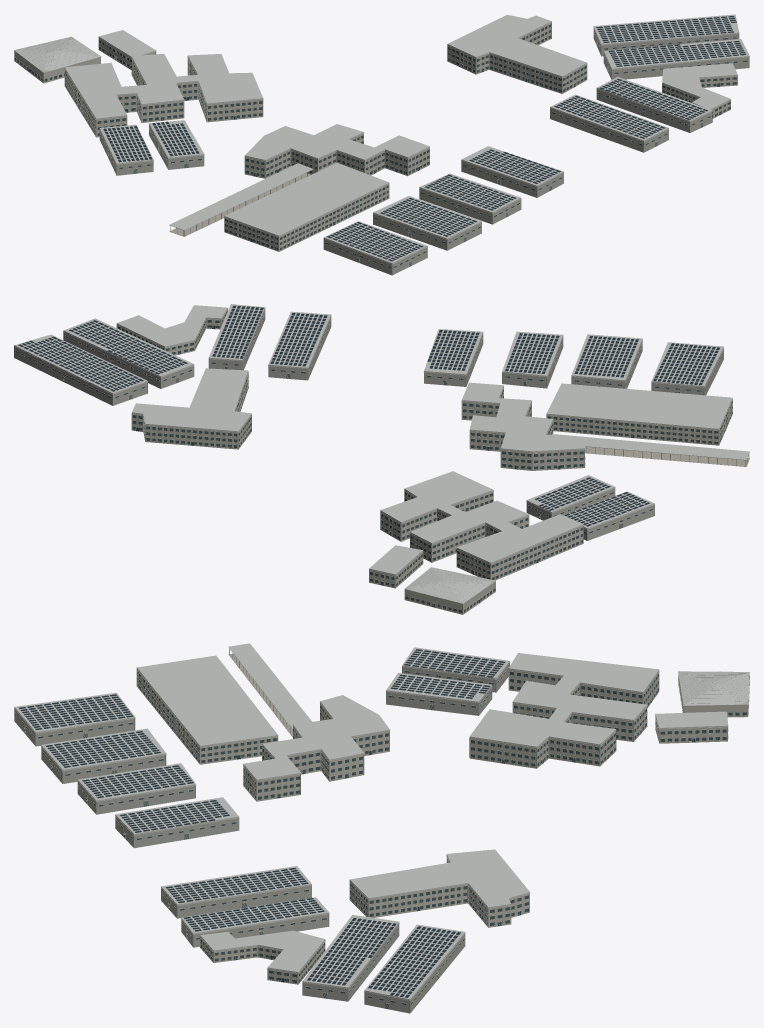
Rendered from UMPSA-Pekan-academic.glb.
The picture shows the model from 3 angles, top to bottom: view 1: azimuth 30°, elevation 25°; view 2: azimuth 150°, elevation 25°; view 3: azimuth 270°, elevation 25°; orthographic projection. The views are drawn at different scales.
Parts seen in each view (by area): view 1: Fakulti Teknologi Kejuruteraan Elektrik dan Elektronik (FTKE, FTKMA west teaching block - campus exterior, Fakulti Teknologi Kejuruteraan Mekanikal dan Automotif (FTKM, Faculty of Engineering Technology - main block - campus exte, Engineering Technology solar laboratory - east - campus exte, Engineering Technology solar laboratory - north - campus ext, FTKMA solar workshop B - campus exterior, Engineering Technology solar laboratory - west - campus exte, FTKMA solar workshop A - campus exterior, Engineering Technology solar laboratory - south - campus ext, FTKMA solar workshop C - campus exterior, FTKMA solar workshop D - campus exterior (+6 smaller); view 2: Fakulti Teknologi Kejuruteraan Elektrik dan Elektronik (FTKE, FTKMA west teaching block - campus exterior, Fakulti Teknologi Kejuruteraan Mekanikal dan Automotif (FTKM, Faculty of Engineering Technology - main block - campus exte, Engineering Technology solar laboratory - north - campus ext, Engineering Technology solar laboratory - east - campus exte, FTKMA solar workshop B - campus exterior, Engineering Technology solar laboratory - west - campus exte, FTKMA solar workshop A - campus exterior, FTKEE teaching hall - campus exterior, FTKMA covered pedestrian walkway - campus exterior, Engineering Technology stepped annex - campus exterior (+6 smaller); view 3: Fakulti Teknologi Kejuruteraan Elektrik dan Elektronik (FTKE, FTKMA west teaching block - campus exterior, Faculty of Engineering Technology - main block - campus exte, Fakulti Teknologi Kejuruteraan Mekanikal dan Automotif (FTKM, Engineering Technology solar laboratory - north - campus ext, Engineering Technology solar laboratory - west - campus exte, Engineering Technology solar laboratory - east - campus exte, FTKMA solar workshop B - campus exterior, FTKMA solar workshop A - campus exterior, FTKMA solar workshop D - campus exterior, FTKMA solar workshop C - campus exterior, Engineering Technology stepped annex - campus exterior (+6 smaller).
Boxes of the visible parts, x1,y1,x2,y2 form: Fakulti Teknologi Kejuruteraan Elektrik dan Elektronik (FTKE: [64, 54, 263, 137]; FTKMA west teaching block - campus exterior: [224, 162, 389, 251]; Fakulti Teknologi Kejuruteraan Mekanikal dan Automotif (FTKM: [244, 124, 429, 178]; Faculty of Engineering Technology - main block - campus exte: [447, 14, 587, 93]; Engineering Technology solar laboratory - east - campus exte: [603, 39, 749, 79]; Engineering Technology solar laboratory - north - campus ext: [593, 14, 739, 56]; FTKMA solar workshop B - campus exterior: [373, 196, 481, 250]; Engineering Technology solar laboratory - west - campus exte: [550, 94, 668, 152]; FTKMA solar workshop A - campus exterior: [323, 221, 427, 275]; Engineering Technology solar laboratory - south - campus ext: [596, 77, 712, 132]; FTKMA solar workshop C - campus exterior: [419, 173, 521, 224]; FTKMA solar workshop D - campus exterior: [461, 146, 563, 197]; Fakulti Teknologi Kejuruteraan Elektrik dan Elektronik (FTKE: [380, 471, 583, 580]; FTKMA west teaching block - campus exterior: [546, 383, 732, 445]; Fakulti Teknologi Kejuruteraan Mekanikal dan Automotif (FTKM: [461, 382, 585, 470]; Faculty of Engineering Technology - main block - campus exte: [131, 368, 251, 449]; Engineering Technology solar laboratory - north - campus ext: [14, 334, 147, 405]; Engineering Technology solar laboratory - east - campus exte: [63, 318, 194, 388]; FTKMA solar workshop B - campus exterior: [571, 334, 642, 388]; Engineering Technology solar laboratory - west - campus exte: [268, 311, 331, 380]; FTKMA solar workshop A - campus exterior: [651, 342, 723, 395]; FTKEE teaching hall - campus exterior: [404, 567, 495, 614]; FTKMA covered pedestrian walkway - campus exterior: [552, 434, 749, 466]; Engineering Technology stepped annex - campus exterior: [116, 305, 227, 355]; Fakulti Teknologi Kejuruteraan Elektrik dan Elektronik (FTKE: [469, 653, 659, 768]; FTKMA west teaching block - campus exterior: [136, 655, 278, 764]; Faculty of Engineering Technology - main block - campus exte: [349, 849, 530, 927]; Fakulti Teknologi Kejuruteraan Mekanikal dan Automotif (FTKM: [243, 695, 389, 801]; Engineering Technology solar laboratory - north - campus ext: [364, 924, 465, 1013]; Engineering Technology solar laboratory - west - campus exte: [161, 866, 311, 918]; Engineering Technology solar laboratory - east - campus exte: [302, 915, 399, 1001]; FTKMA solar workshop B - campus exterior: [41, 728, 166, 783]; FTKMA solar workshop A - campus exterior: [14, 692, 135, 746]; FTKMA solar workshop D - campus exterior: [115, 797, 239, 848]; FTKMA solar workshop C - campus exterior: [77, 763, 195, 814]; Engineering Technology stepped annex - campus exterior: [200, 930, 325, 984].
Size of the model in its own units: 492 by 13.99 by 422.
